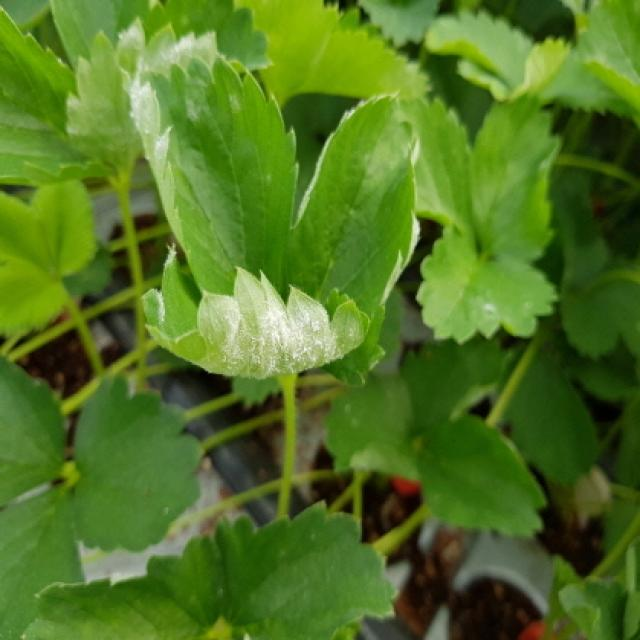Powdery Mildew Leaf: (118, 29, 301, 307), (288, 94, 421, 386), (138, 247, 373, 379), (413, 226, 559, 347)
